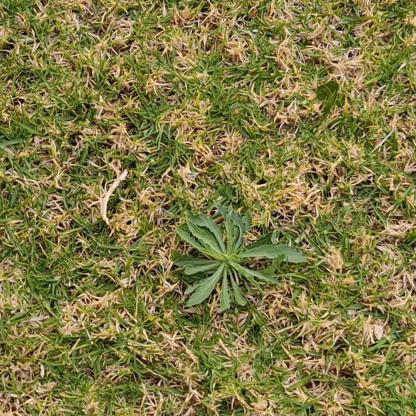Weeds: (172, 207, 308, 310)
